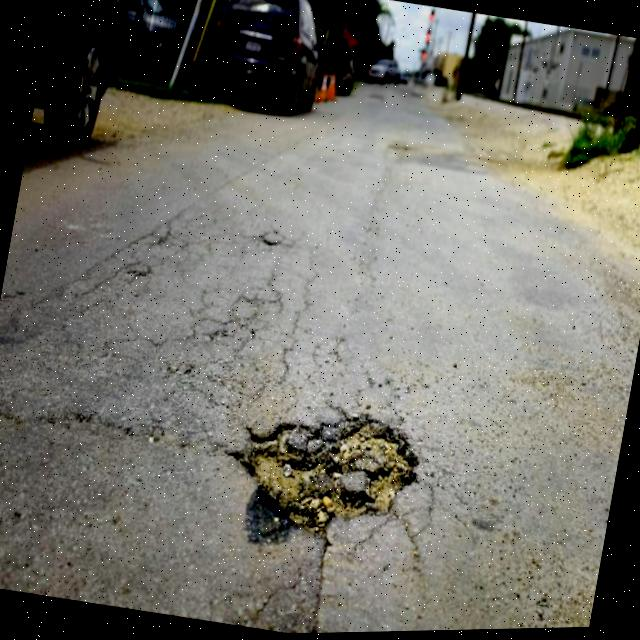Pothole: (225, 383, 428, 549)
